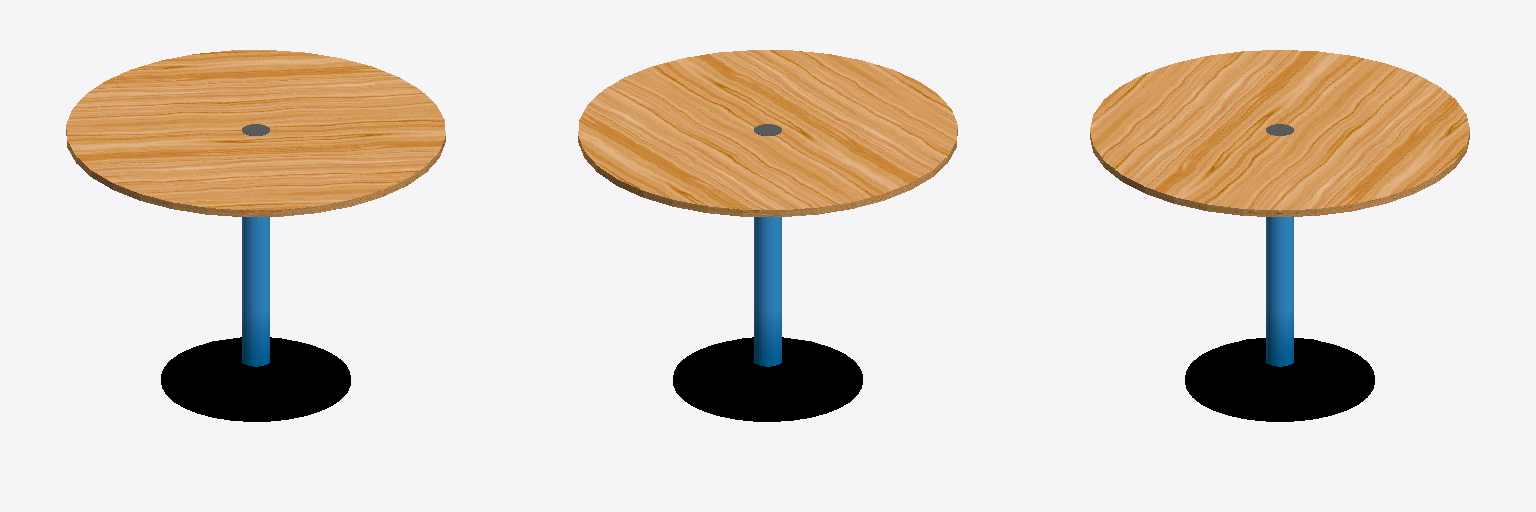
3 renders of one model, left to right at view 1: azimuth 30°, elevation 25°; view 2: azimuth 150°, elevation 25°; view 3: azimuth 270°, elevation 25°, orthographic.
Parts seen in each view (by area): view 1: tabletop_tabletop_0, base2_base_0, leg_leg_0, base_base_0; view 2: tabletop_tabletop_0, base2_base_0, leg_leg_0, base_base_0; view 3: tabletop_tabletop_0, base2_base_0, leg_leg_0, base_base_0.
Boxes of the visible parts, box(x1,y1,x2,y2) form: tabletop_tabletop_0: box(66, 50, 445, 216); base2_base_0: box(164, 337, 347, 416); leg_leg_0: box(242, 135, 269, 366); base_base_0: box(161, 341, 350, 421); tabletop_tabletop_0: box(578, 50, 957, 216); base2_base_0: box(676, 337, 859, 416); leg_leg_0: box(754, 135, 781, 366); base_base_0: box(673, 341, 862, 421); tabletop_tabletop_0: box(1090, 50, 1469, 216); base2_base_0: box(1187, 338, 1372, 416); leg_leg_0: box(1266, 217, 1293, 366); base_base_0: box(1185, 342, 1374, 421).
Bounding box in the file's own units: 4 × 2.92 × 4.
4 materials, 2 textured.